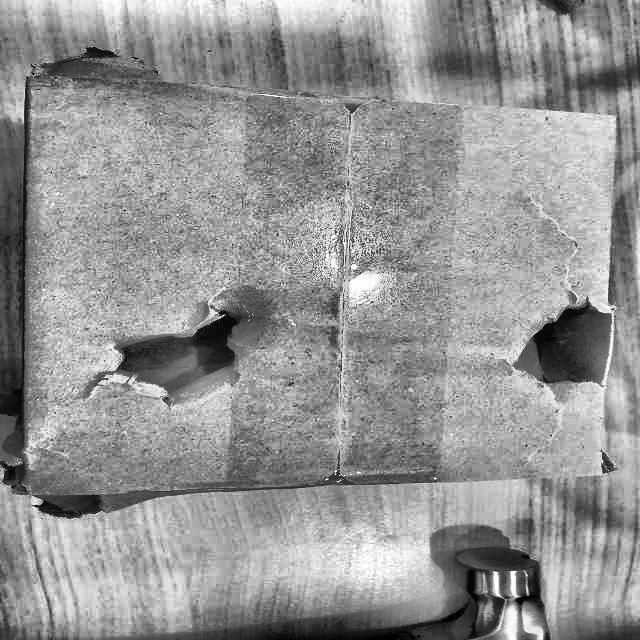box: (9, 63, 640, 514)
hole: (105, 283, 264, 401), (505, 299, 608, 392)
